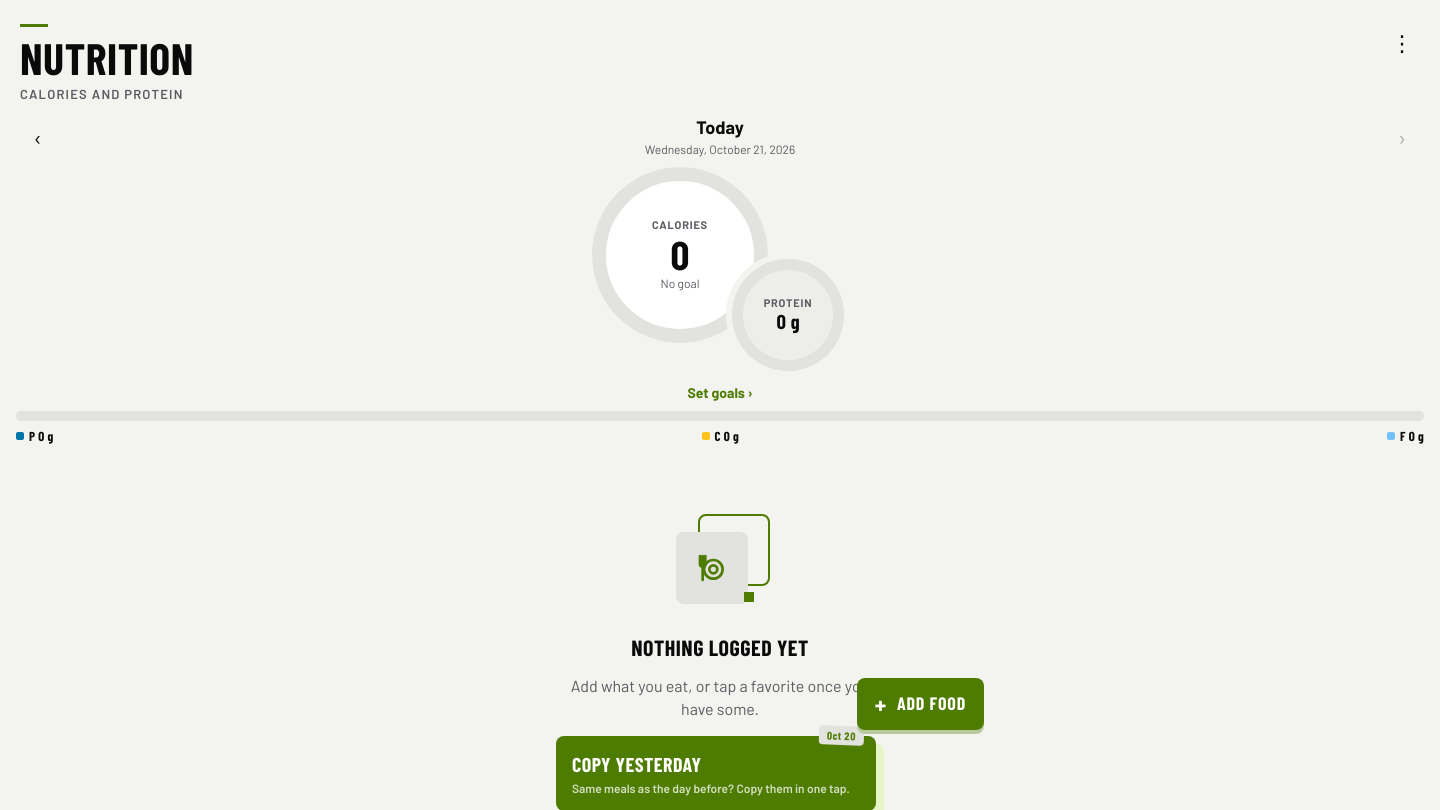
Test: copy yesterday › says so when the previous day is empty
The image size is (1440, 810).
Click the button with test id "copy-previous-day" at (637, 764), box [556,736,876,809]
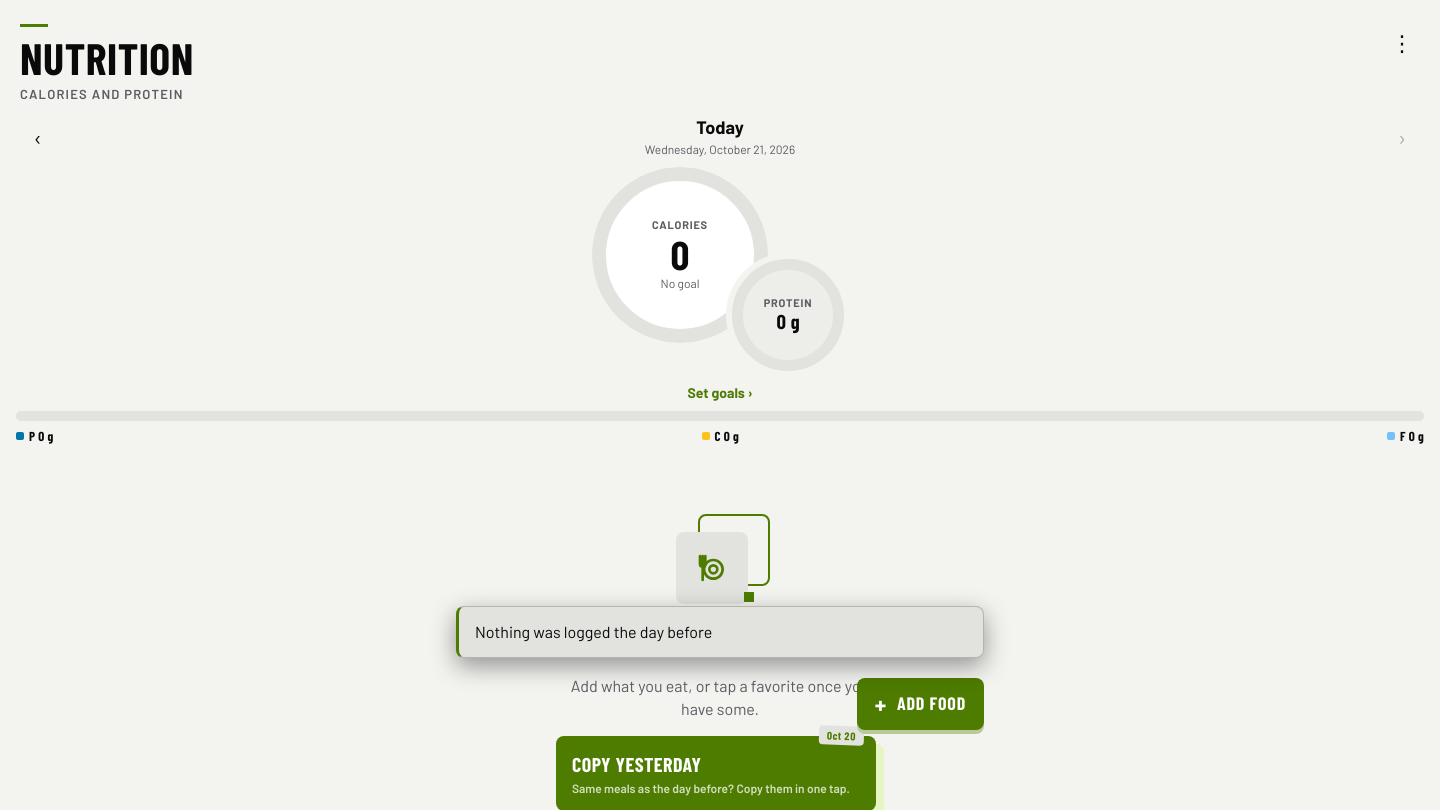
Result: the text "Nothing was logged the day before" is shown at [475,622,712,641]
